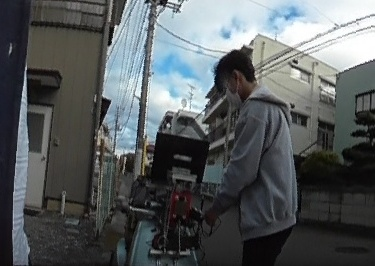person: (209, 47, 297, 266)
